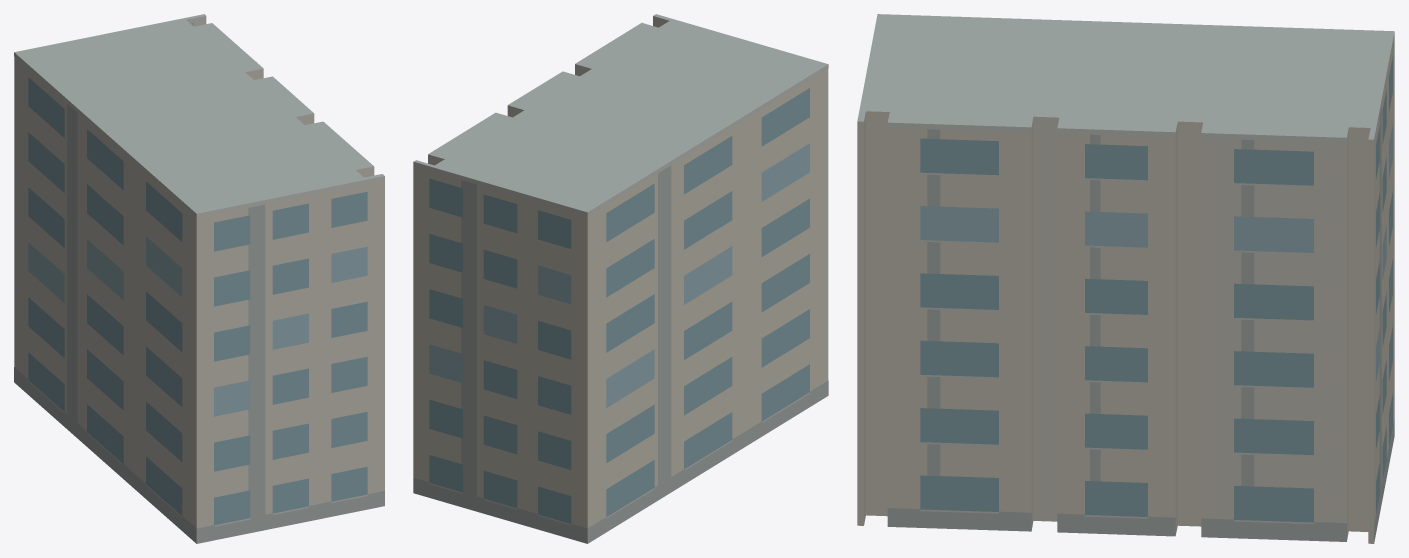
File: survey-upis-32706646.glb
3 renders of one model, left to right at view 1: azimuth 30°, elevation 25°; view 2: azimuth 150°, elevation 25°; view 3: azimuth 270°, elevation 25°, orthographic. The views are drawn at different scales.
Visible parts, largest first — view 1: survey-upis-32706646.tmp; view 2: survey-upis-32706646.tmp; view 3: survey-upis-32706646.tmp.
Boxes of the visible parts, x1,y1,x2,y2 form: survey-upis-32706646.tmp: (14, 14, 384, 543); survey-upis-32706646.tmp: (413, 14, 828, 543); survey-upis-32706646.tmp: (857, 14, 1394, 543).
Bounding box in the file's own units: 12.35 × 18.5 × 22.3.
